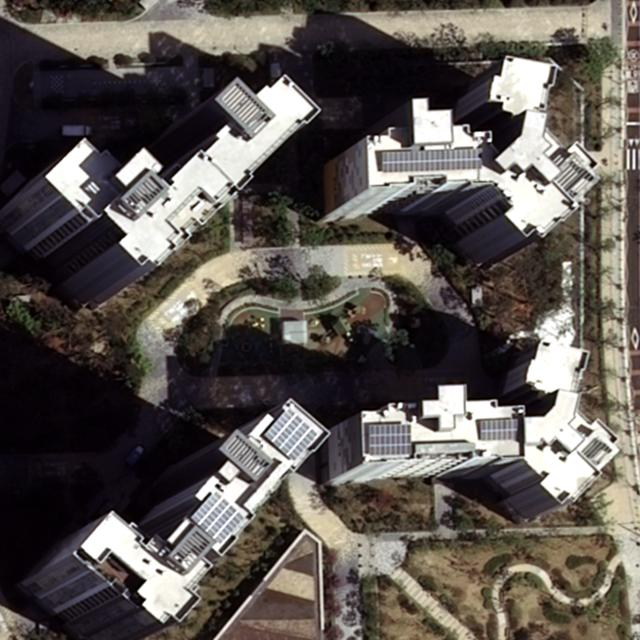panel: (263, 408, 322, 462), (190, 492, 247, 546), (378, 147, 486, 173), (365, 422, 414, 458), (476, 416, 521, 441)
